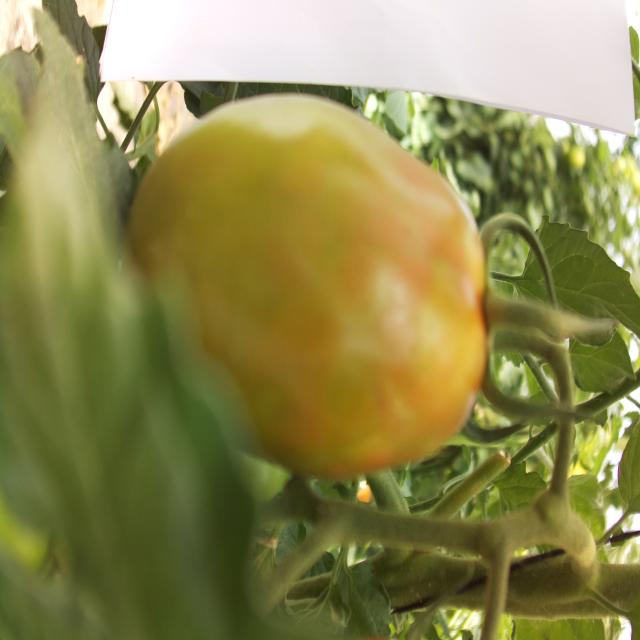yesil: (91, 86, 494, 459)
